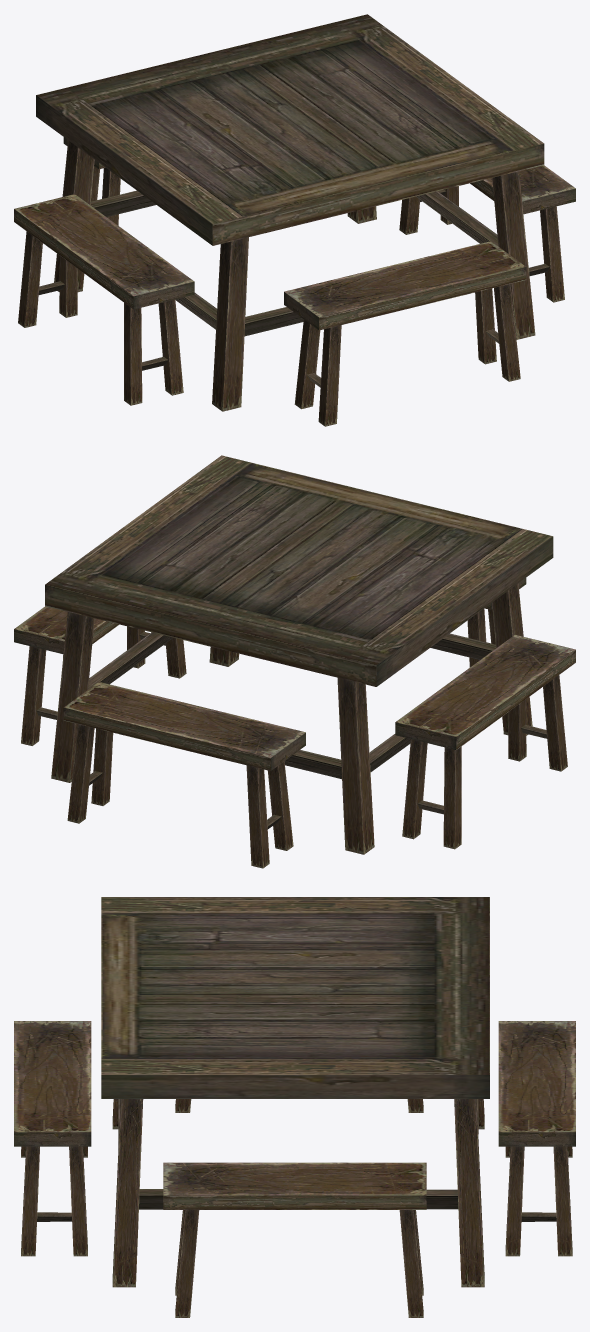
The model's file is zhuoyi_cl_60.FBX.
The picture shows the model from 3 angles, top to bottom: view 1: azimuth 30°, elevation 25°; view 2: azimuth 150°, elevation 25°; view 3: azimuth 270°, elevation 25°; orthographic projection. The views are drawn at different scales.
Visible parts, largest first — view 1: zhuoyi_cl_60_zhuo, zhuoyi_cl_60_yi01, zhuoyi_cl_60_yi02, zhuoyi_cl_60_yi04, zhuoyi_cl_60_yi03; view 2: zhuoyi_cl_60_zhuo, zhuoyi_cl_60_yi03, zhuoyi_cl_60_yi02, zhuoyi_cl_60_yi04, zhuoyi_cl_60_yi01; view 3: zhuoyi_cl_60_zhuo, zhuoyi_cl_60_yi04, zhuoyi_cl_60_yi03, zhuoyi_cl_60_yi01.
Part boxes in pixels (x1,y1,x2,y2): zhuoyi_cl_60_zhuo: (36, 14, 544, 411); zhuoyi_cl_60_yi01: (284, 241, 526, 426); zhuoyi_cl_60_yi02: (14, 194, 194, 405); zhuoyi_cl_60_yi04: (399, 165, 575, 302); zhuoyi_cl_60_yi03: (63, 137, 120, 225); zhuoyi_cl_60_zhuo: (45, 455, 553, 854); zhuoyi_cl_60_yi03: (63, 682, 305, 868); zhuoyi_cl_60_yi02: (395, 634, 575, 849); zhuoyi_cl_60_yi04: (14, 606, 186, 745); zhuoyi_cl_60_yi01: (467, 578, 526, 667); zhuoyi_cl_60_zhuo: (101, 897, 489, 1287); zhuoyi_cl_60_yi04: (163, 1162, 426, 1317); zhuoyi_cl_60_yi03: (498, 1021, 575, 1256); zhuoyi_cl_60_yi01: (14, 1021, 91, 1256).
Size of what is drawn, in the model's own units: 236 by 99.37 by 236.
